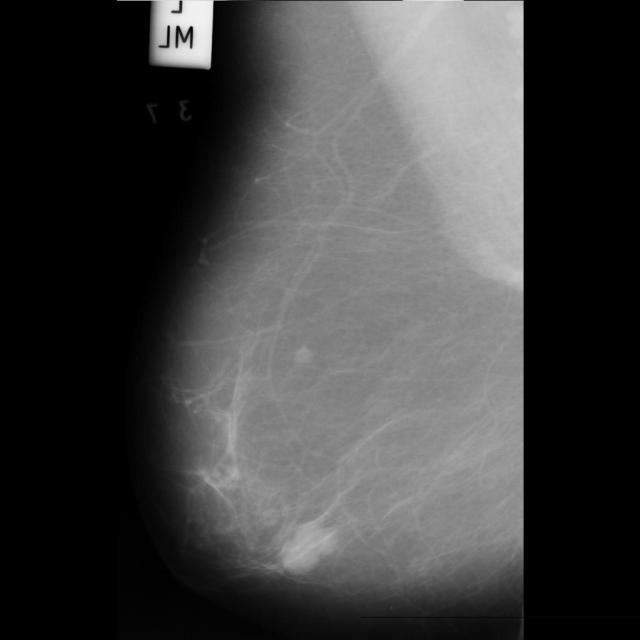tumour: (277, 522, 337, 573)
